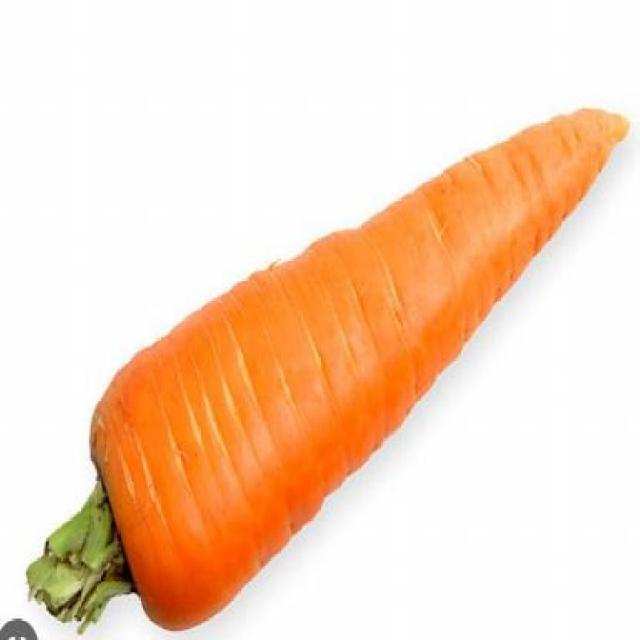carrot: (91, 92, 637, 632)
